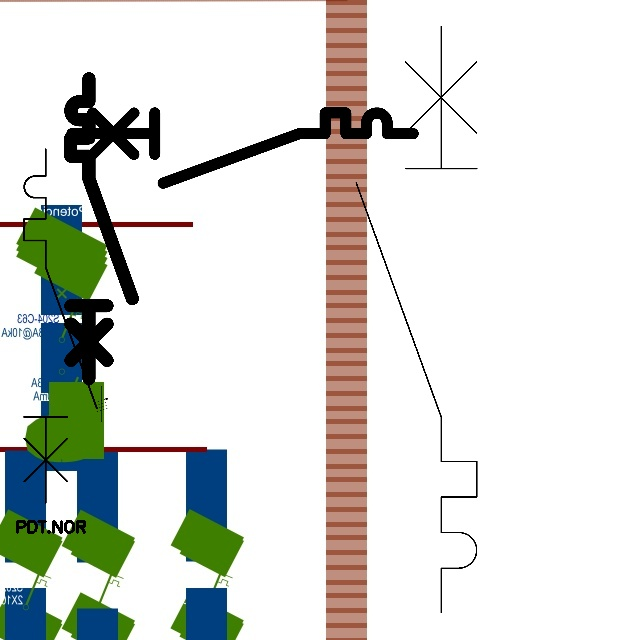interruptor_termomagnetico: (341, 11, 492, 628), (15, 140, 106, 512), (63, 104, 422, 191), (63, 71, 140, 386)
